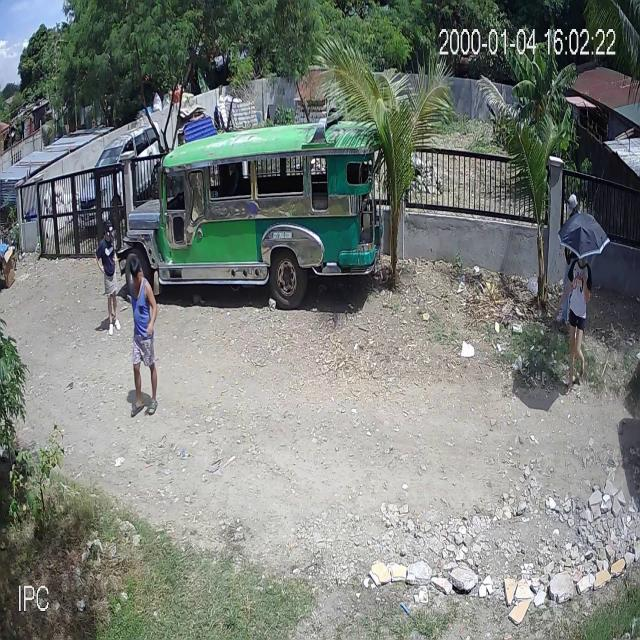standing: (558, 192, 582, 336), (96, 221, 123, 339)
walking: (129, 251, 165, 418), (563, 239, 598, 398)
